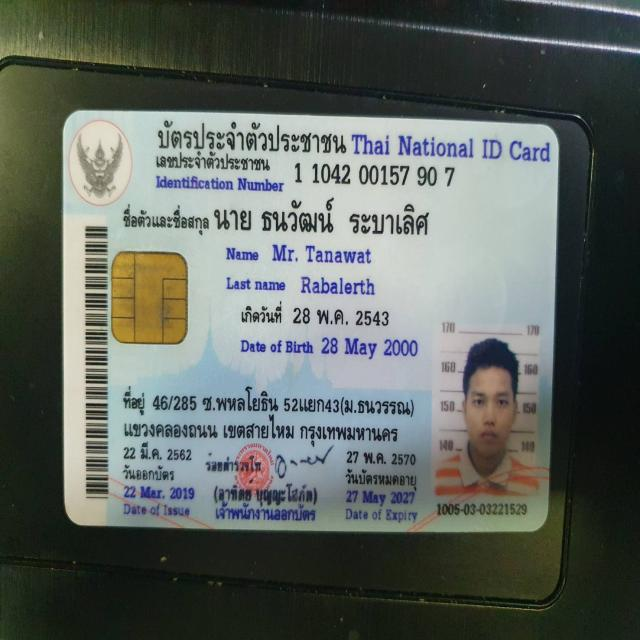Address_th: (118, 382, 430, 446)
Date_of_Birth: (316, 328, 424, 371)
Date_of_Expiry: (340, 487, 422, 507)
Date_of_Issue: (118, 480, 198, 503)
First_Name: (268, 237, 375, 270)
ID_Number: (288, 160, 464, 193)
Image: (434, 322, 540, 500)
Last_Name: (296, 272, 381, 303)
Thai_Name: (210, 193, 438, 244)
